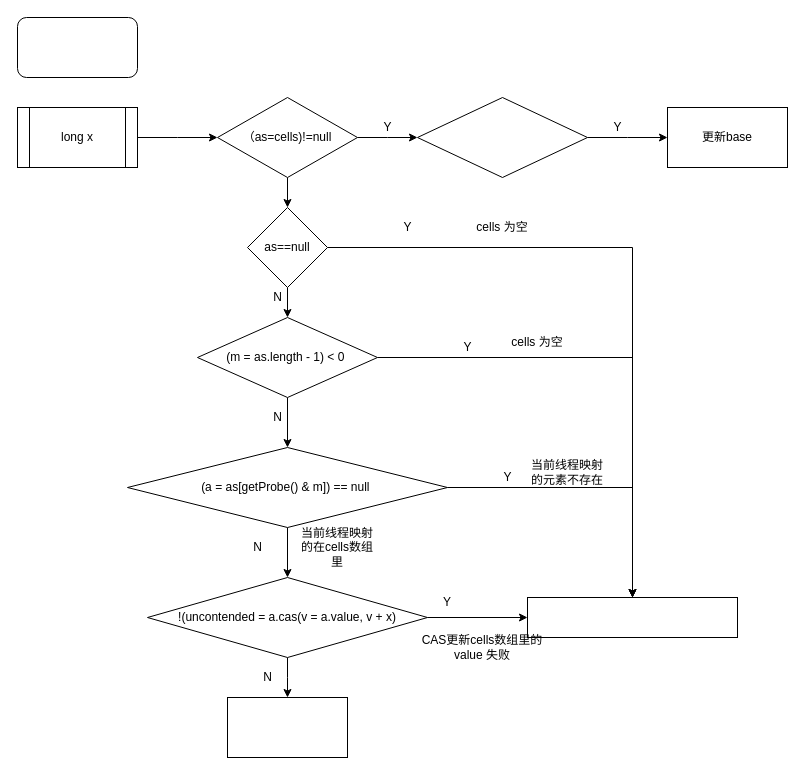
Image size: 805x775. Some labels were removed from this diagram. Each missing label, with the centre of its shape:
"!casBase(b = base, b + x)" belongs at point 502,137.
"CAS更新cells数组里的value成功" belongs at point 287,727.
"longAccumulate(x, null, uncontended)" belongs at point 632,617.
"LongAdder" belongs at point 77,47.
